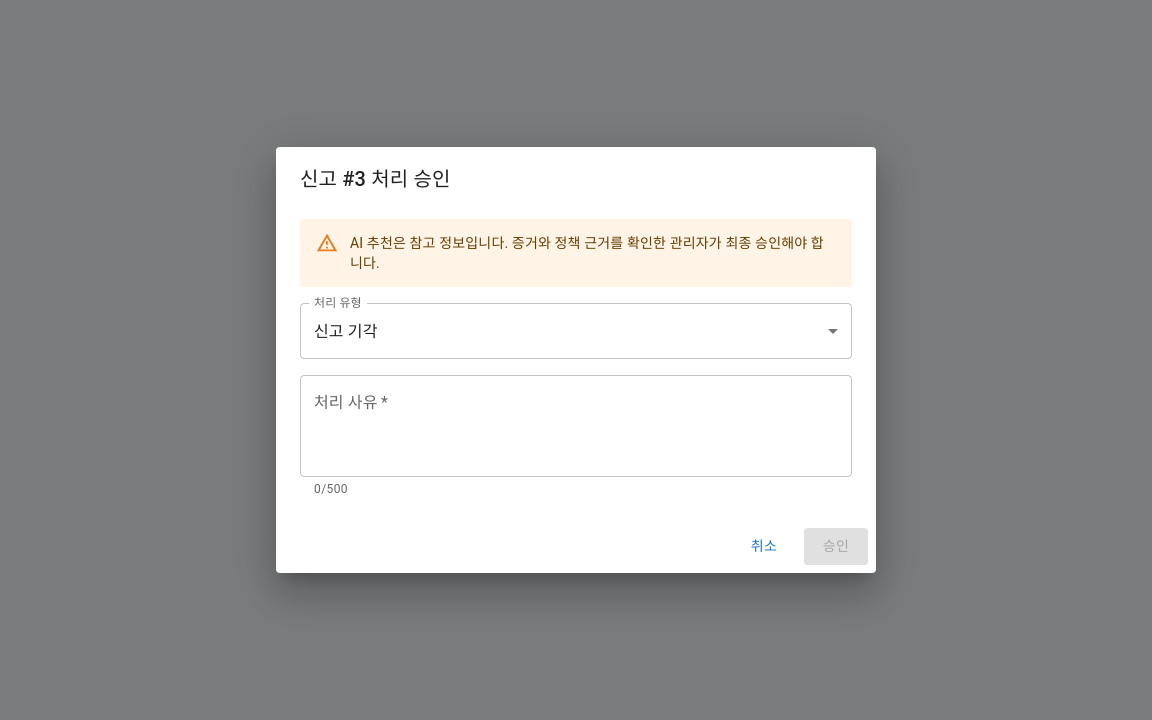
Test: ActionDialog › 이미 정지된 모임장에게 추가 제재 선택지를 표시하지 않는다
This screenshot has width=1152, height=720.
Click the dropdown named "처리 유형": coordinates (346, 331) [314,322,378,341]
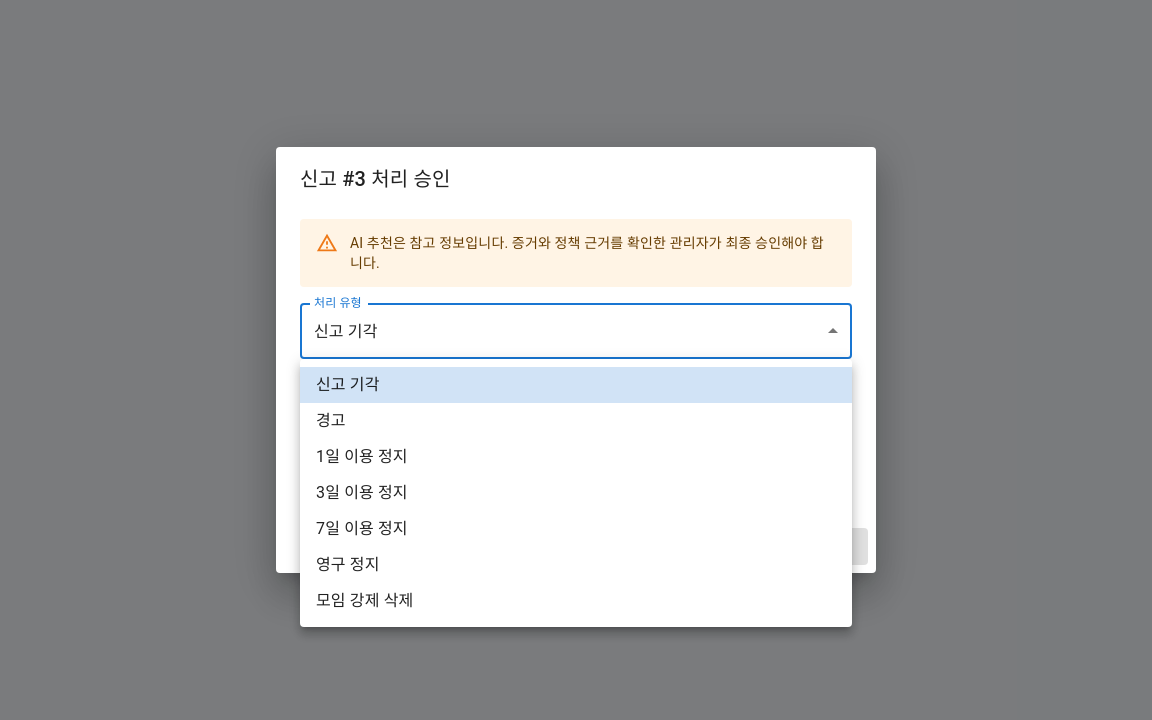
Click the option "모임 강제 삭제": coordinates (365, 600) [316,591,414,610]
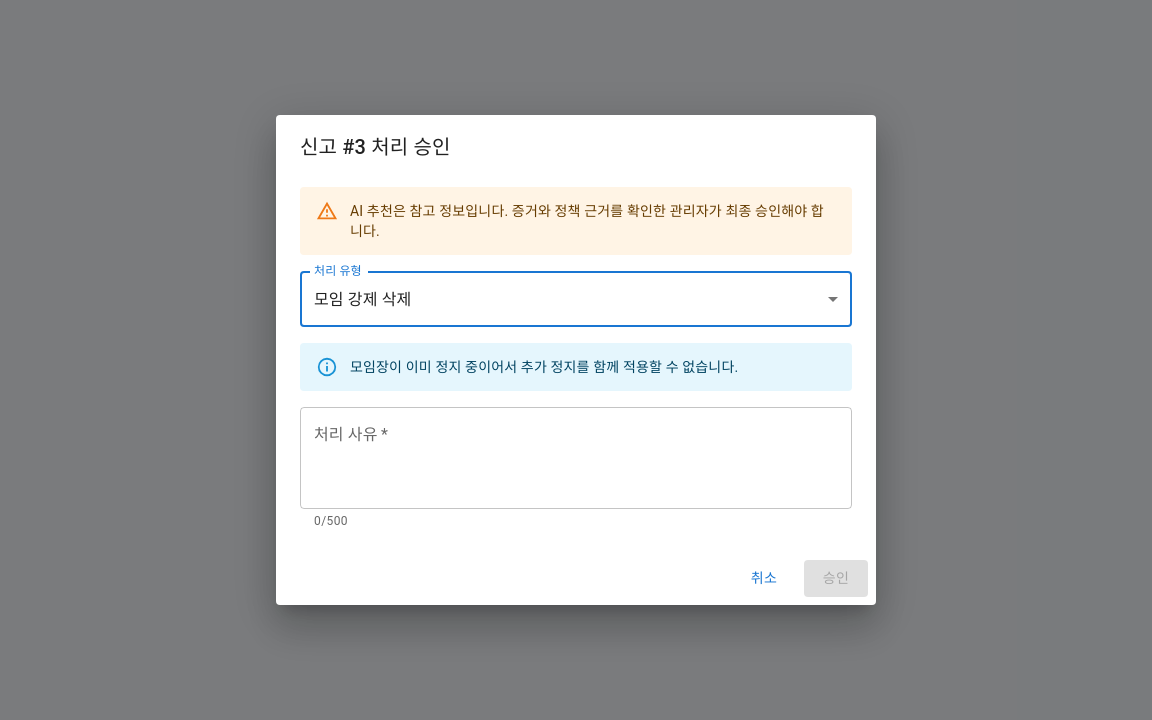
Check: the text "모임장이 이미 정지 중이어서 추가 정지를 함께 적용할 수 없습니다." is shown, box [350,359,738,375]
